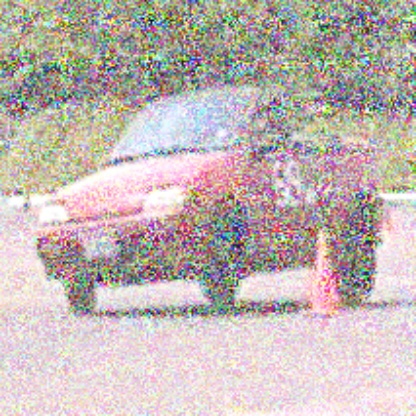Vehicle: (34, 85, 402, 331)
